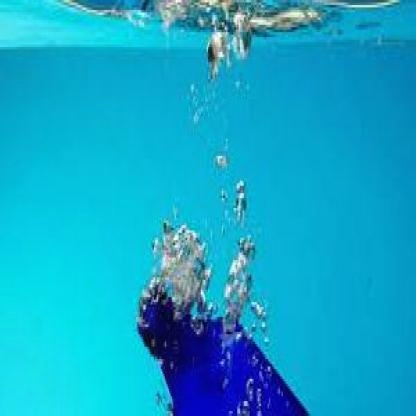pbottle: (130, 267, 314, 416)
